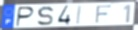1: (123, 4, 132, 23)
4: (56, 5, 72, 27)
F: (95, 5, 113, 25)
I: (75, 5, 83, 25)
P: (16, 6, 36, 28)
S: (37, 6, 55, 26)
